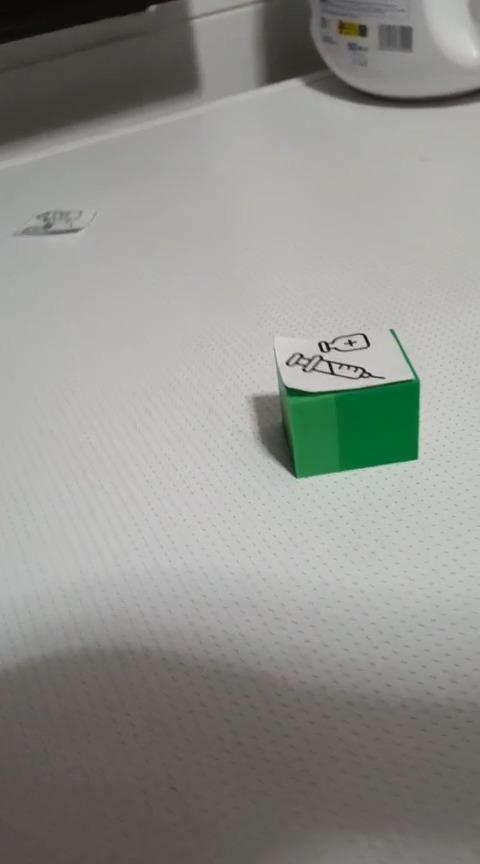antiseptic cream: (271, 325, 421, 479)
